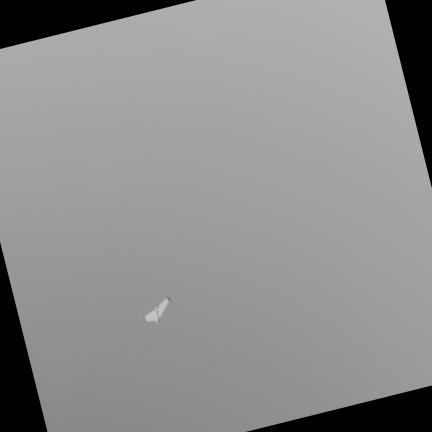Shahed: (141, 295, 170, 322)
